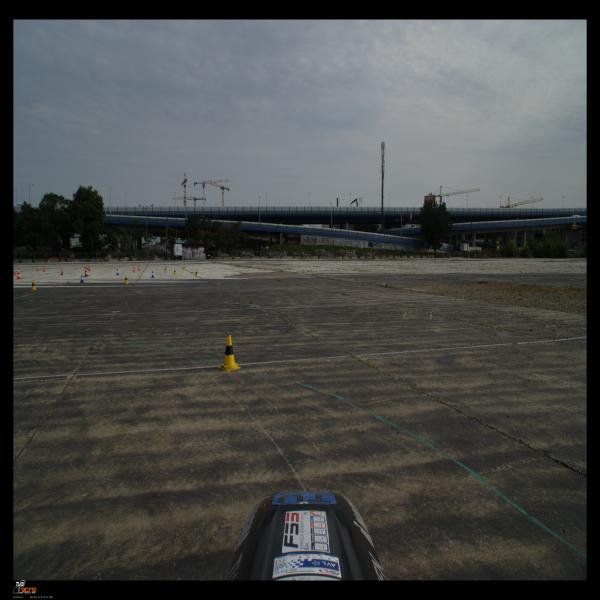blue_cone: (79, 275, 84, 283), (151, 271, 155, 278), (116, 269, 119, 275)
large_orange_cone: (16, 268, 22, 279), (84, 267, 89, 277)
orange_cone: (60, 269, 64, 275), (42, 266, 46, 272), (88, 266, 91, 271), (86, 265, 89, 270), (36, 266, 39, 271), (14, 268, 16, 275), (133, 266, 135, 272), (138, 265, 140, 270), (134, 264, 135, 269)
yellow_cone: (218, 335, 241, 371), (30, 280, 36, 290), (124, 275, 129, 284), (195, 270, 199, 277), (164, 267, 167, 273), (183, 266, 186, 270), (174, 269, 176, 275), (165, 266, 167, 270)
